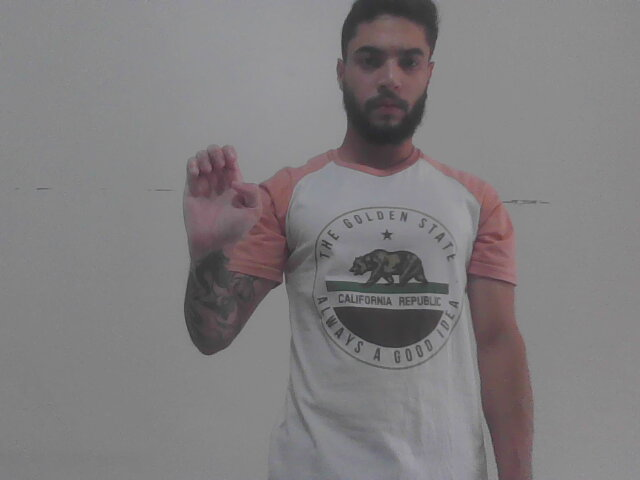e: (176, 141, 265, 256)
